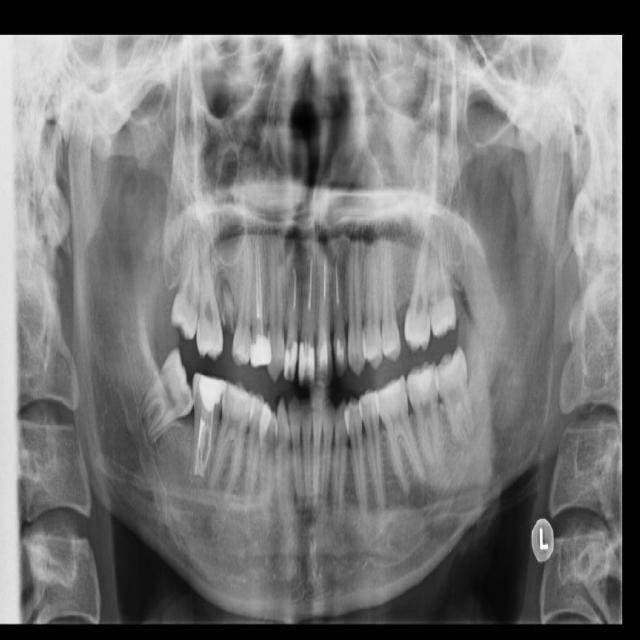Filling: (195, 374, 226, 410), (298, 340, 315, 383), (250, 334, 272, 367), (283, 341, 299, 381), (411, 367, 432, 393)
Missing teeth: (396, 299, 409, 356)
Root Canal Treatment: (200, 414, 212, 475), (196, 414, 207, 472), (260, 240, 265, 314), (308, 257, 313, 315), (255, 246, 259, 317), (292, 268, 296, 310), (324, 260, 327, 304), (335, 265, 337, 305)
Root Piece: (221, 279, 234, 329)
impacted tooth: (139, 350, 196, 441), (436, 345, 476, 446)
